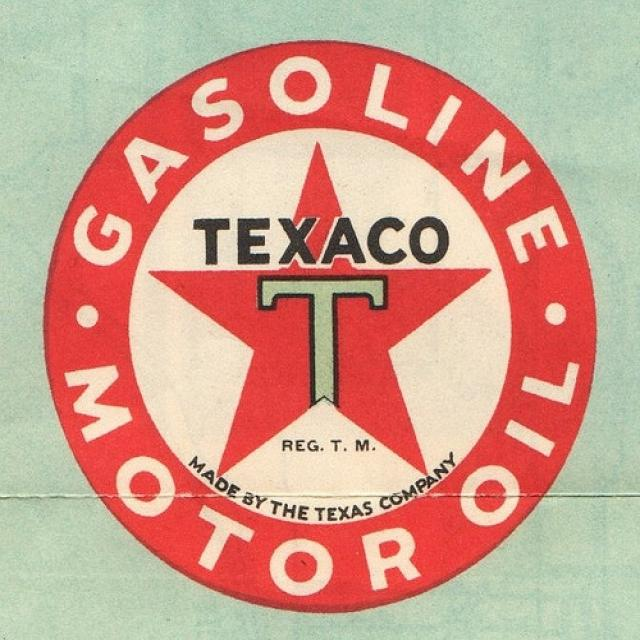texaco: (124, 128, 513, 525)
